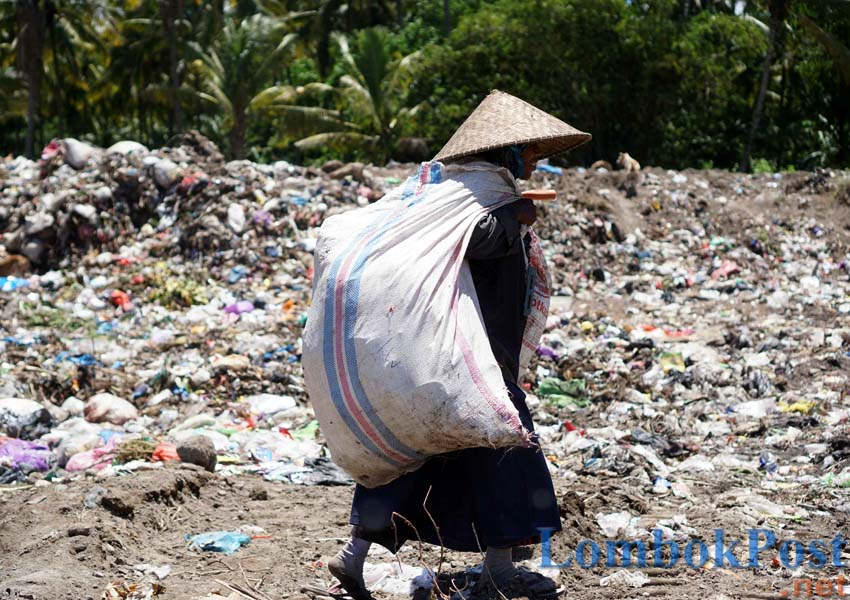pemulung: (285, 86, 603, 600)
